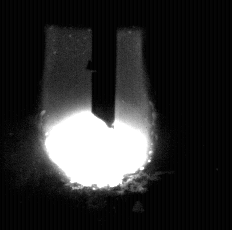arame: (93, 0, 116, 130)
poca: (44, 0, 151, 230)
